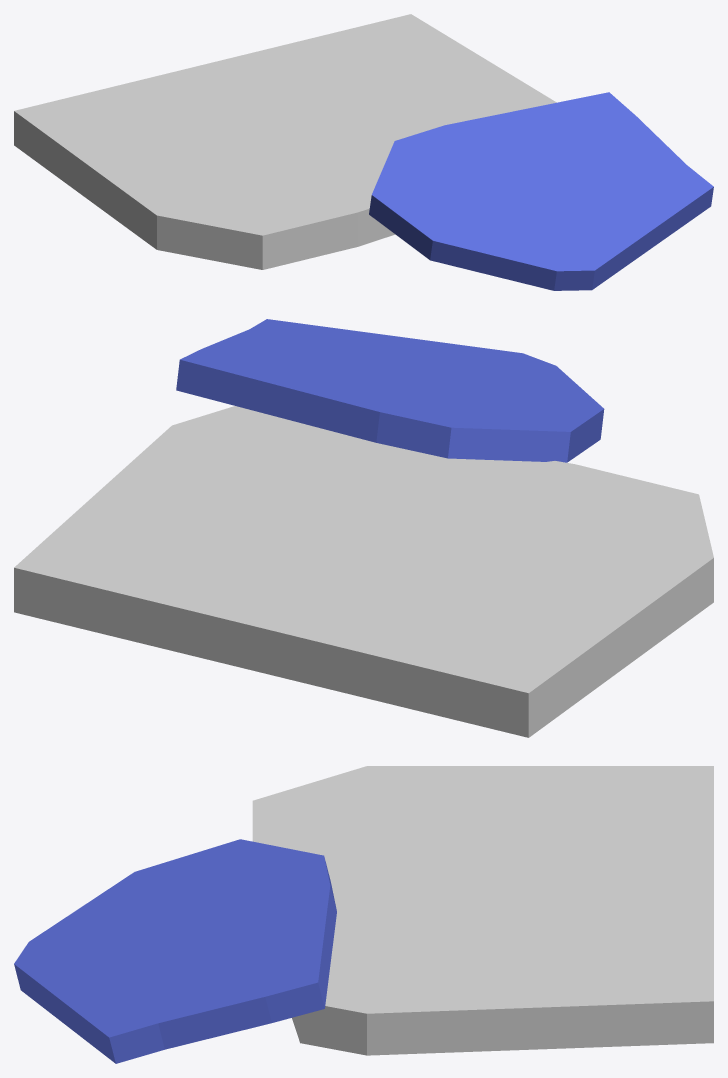
File: plastic.fbx
3 renders of one model, top to bottom at view 1: azimuth 30°, elevation 25°; view 2: azimuth 150°, elevation 25°; view 3: azimuth 270°, elevation 25°, orthographic. The views are drawn at different scales.
Visible parts, largest first — view 1: Plastic; view 2: Plastic; view 3: Plastic.
Part boxes in pixels (x1=…): Plastic: x1=14, y1=14, x2=713, y2=290; Plastic: x1=14, y1=319, x2=713, y2=737; Plastic: x1=14, y1=766, x2=713, y2=1063.
Bounding box in the file's own units: 32.16 × 5.21 × 35.59.
